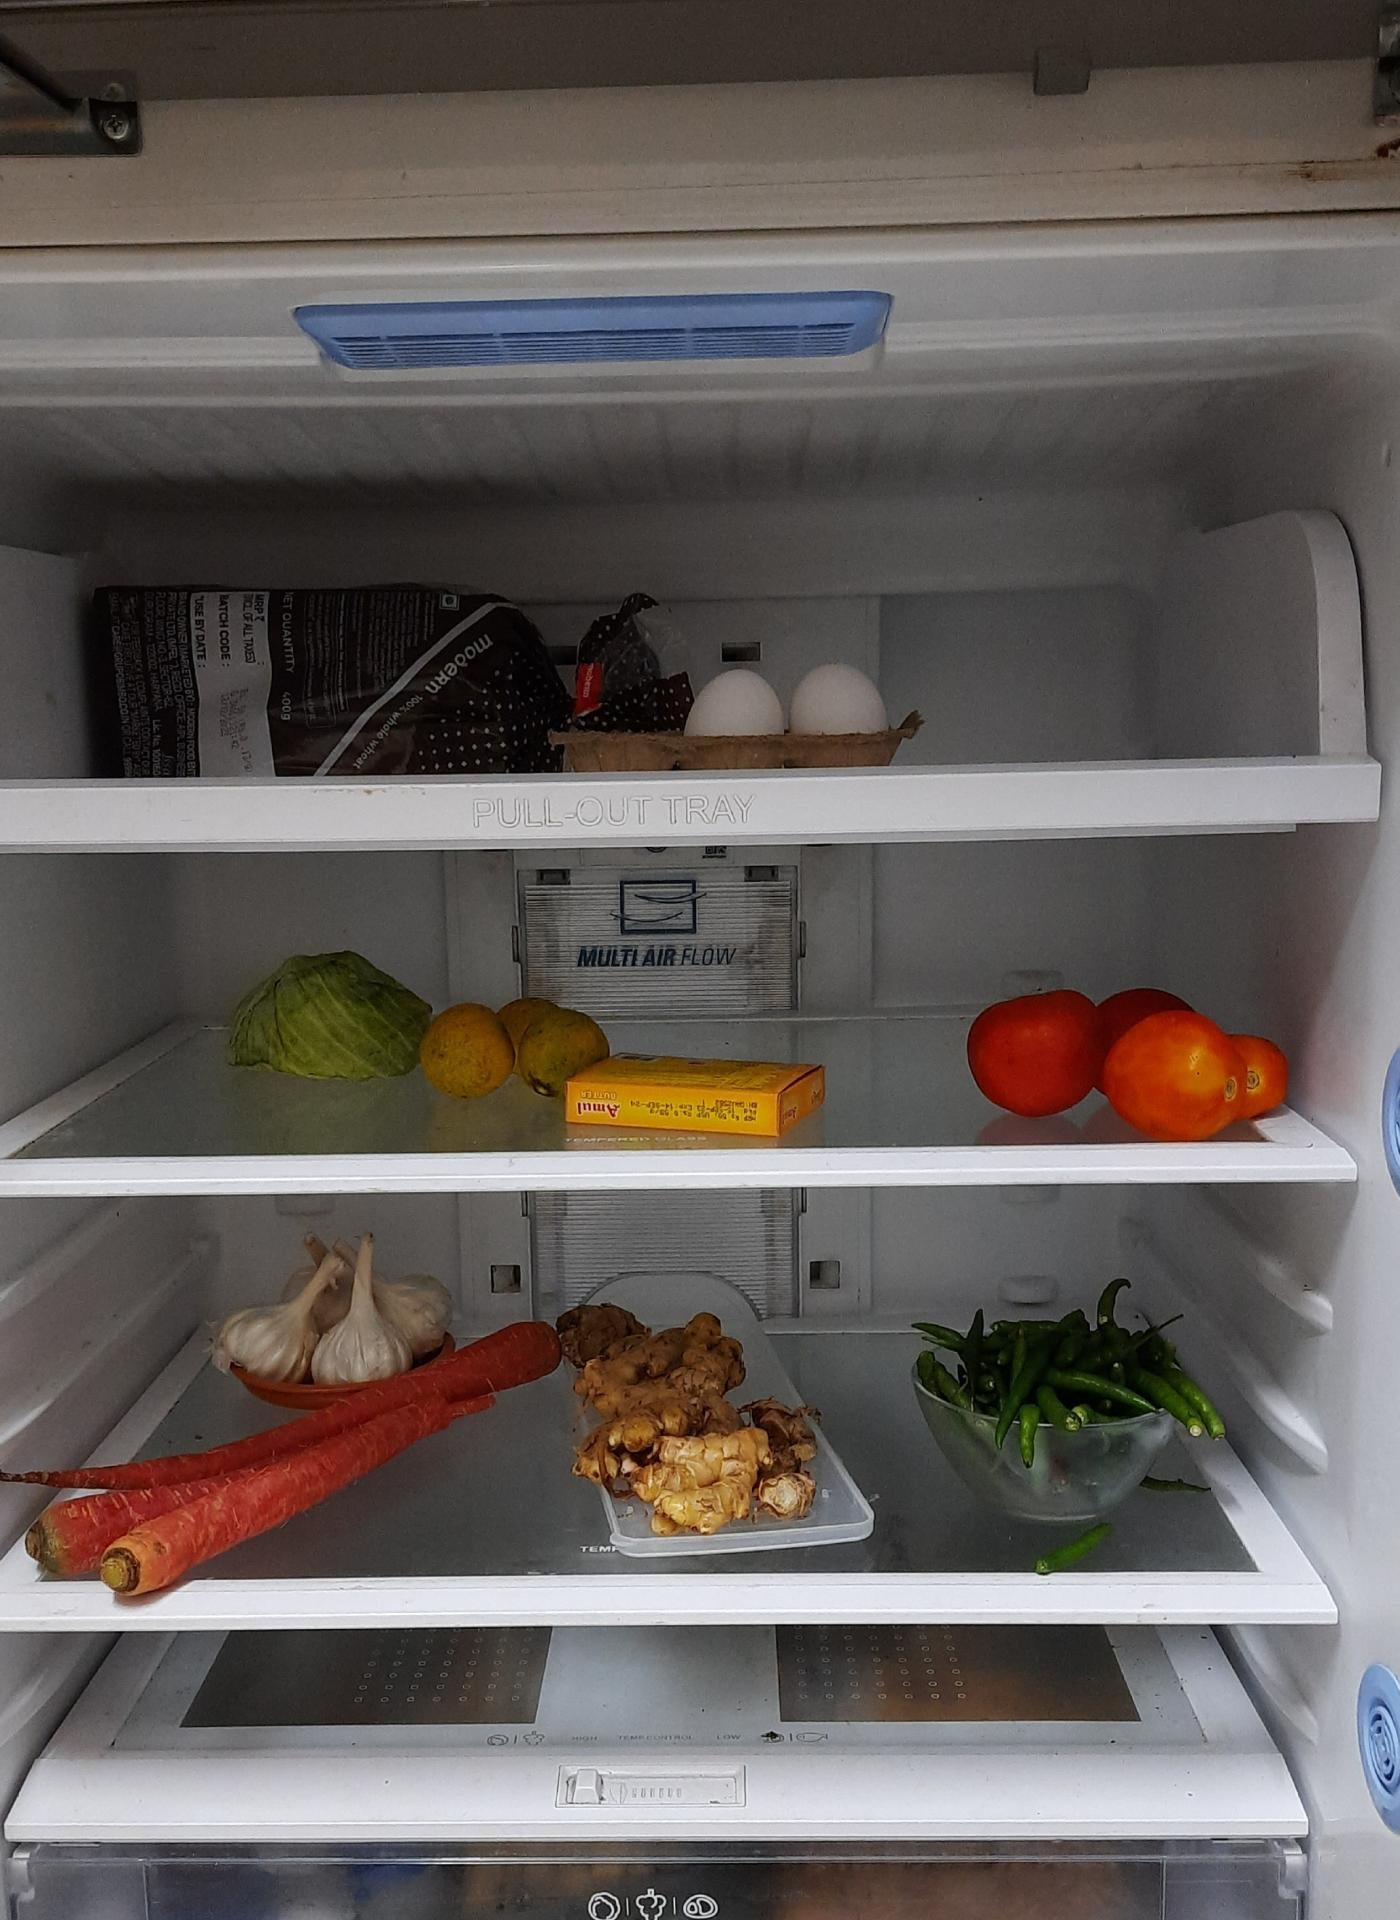bread: (97, 575, 690, 771)
butter: (565, 1055, 835, 1139)
cabbage: (213, 938, 435, 1094)
carrots: (12, 1373, 599, 1602), (426, 1310, 571, 1376)
chillies: (918, 1303, 1200, 1483)
egg: (686, 666, 901, 750)
garlic: (224, 1228, 455, 1385)
ginger: (571, 1286, 816, 1519)
lemon: (414, 987, 614, 1109)
tomato: (966, 988, 1294, 1127)
